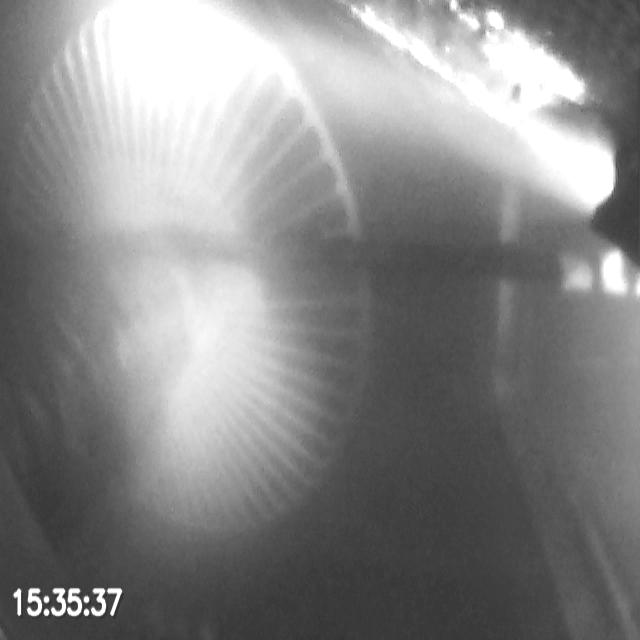white-dots: (556, 246, 640, 301)
